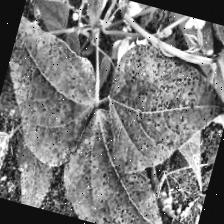ALS: (88, 26, 224, 189), (0, 2, 114, 177), (54, 96, 196, 224)
